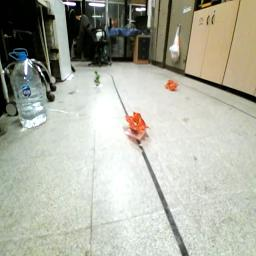herb: (94, 70, 102, 88)
wild: (125, 111, 153, 134), (167, 80, 181, 92)
